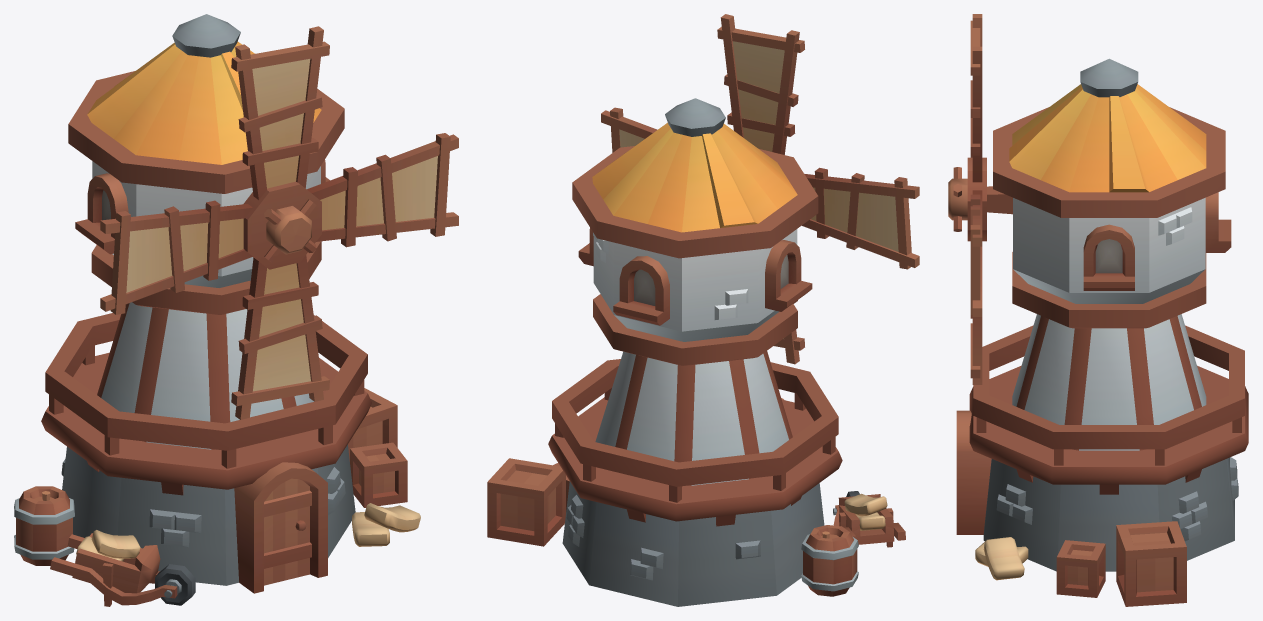
File: building_windmill_yellow.glb
3 views of the same model, side by side, from view 1: azimuth 30°, elevation 25°; view 2: azimuth 150°, elevation 25°; view 3: azimuth 270°, elevation 25° (orthographic). The views are drawn at different scales.
Parts seen in each view (by area): view 1: building_windmill_yellow; view 2: building_windmill_yellow; view 3: building_windmill_yellow.
Part boxes in pixels (<box>): building_windmill_yellow: <box>14,14,458,606</box>; building_windmill_yellow: <box>487,14,919,606</box>; building_windmill_yellow: <box>948,14,1248,606</box>.
Bounding box in the file's own units: 1.13 × 1.46 × 0.8166.
Materials: 1 (1 with a texture image).
